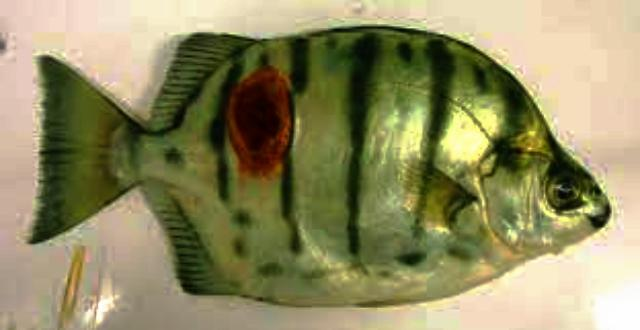Epizootic Ulcerative Syndrome -EUS-: (31, 27, 609, 304), (33, 27, 609, 304)
